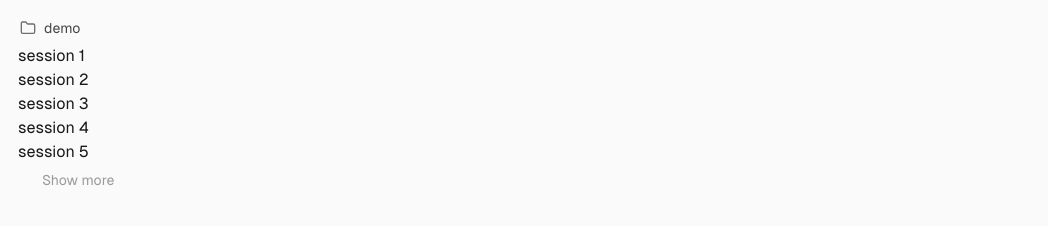
Scenario: WorkspaceTree › truncates long session lists to five and reveals the rest via Show more
Expected: the text "session 1" is shown, [18,46,85,65]
Expected: the text "session 5" is shown, [18,142,89,161]
Click the button "Show more" at [78, 180], box [12,164,1036,196]
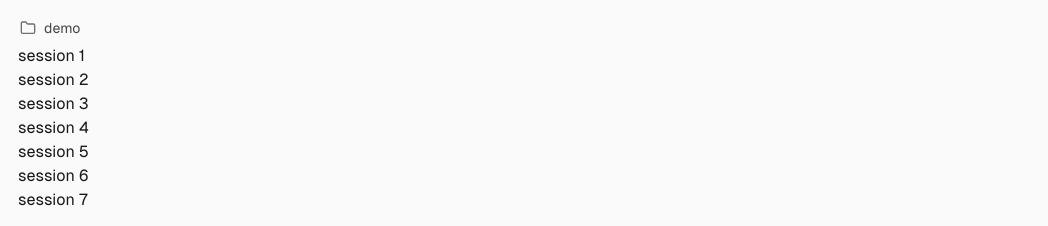
Expected: the text "session 6" is shown, [18,166,89,185]
Expected: the text "session 7" is shown, [18,190,88,209]
Expected: the button "Show more" is gone
